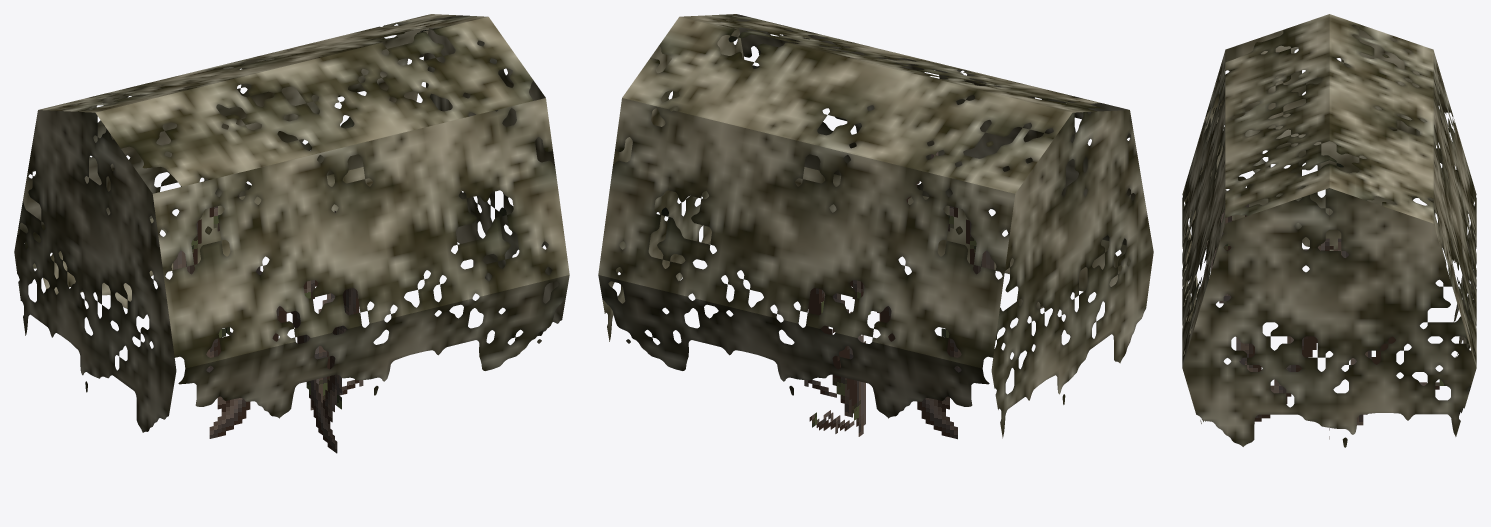
File: bush_long_half_roots_dead.fbx
The picture shows the model from 3 angles, left to right: view 1: azimuth 30°, elevation 25°; view 2: azimuth 150°, elevation 25°; view 3: azimuth 270°, elevation 25°; orthographic projection. The views are drawn at different scales.
Parts seen in each view (by area): view 1: bush_long_half_roots_dead; view 2: bush_long_half_roots_dead; view 3: bush_long_half_roots_dead.
Boxes of the visible parts, x1=… form: bush_long_half_roots_dead: x1=14, y1=14, x2=569, y2=453; bush_long_half_roots_dead: x1=598, y1=14, x2=1153, y2=439; bush_long_half_roots_dead: x1=1182, y1=14, x2=1476, y2=447.
Bounding box in the file's own units: 101 × 87.65 × 71.91.
2 materials, 2 textured.
